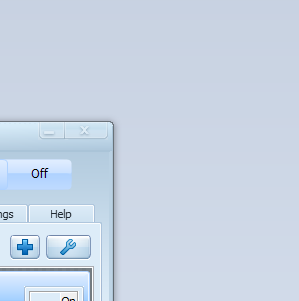close: (65, 120, 108, 140)
